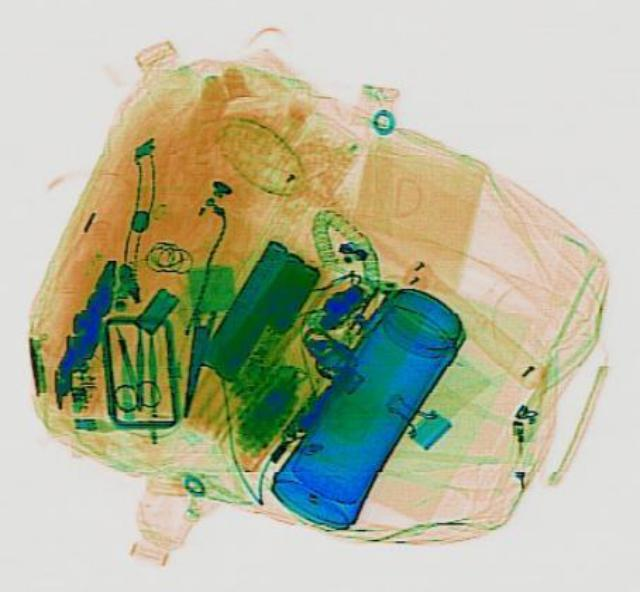Scissors: (88, 320, 162, 411)
